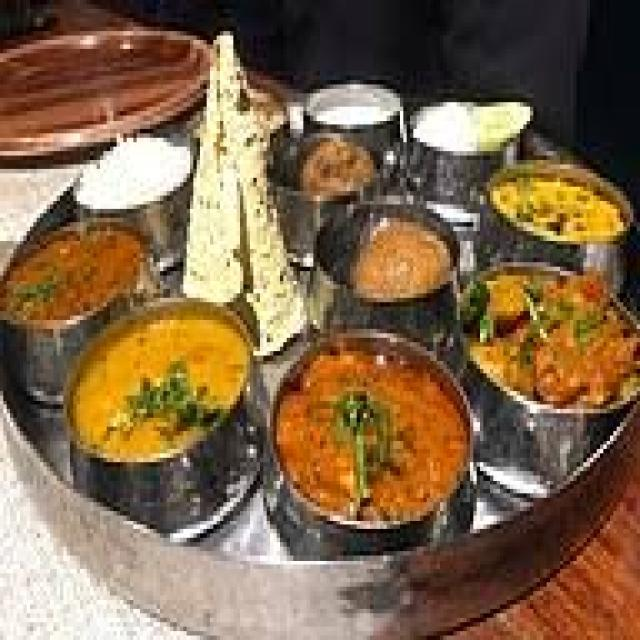dal: (61, 302, 248, 484), (482, 150, 629, 254)
papad: (169, 50, 303, 300)
rice: (75, 126, 197, 215)
veg: (261, 328, 481, 542)
